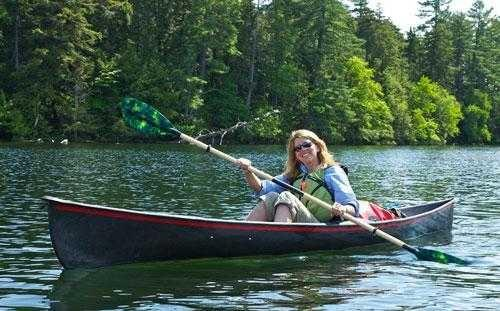kayak: (49, 195, 456, 267)
